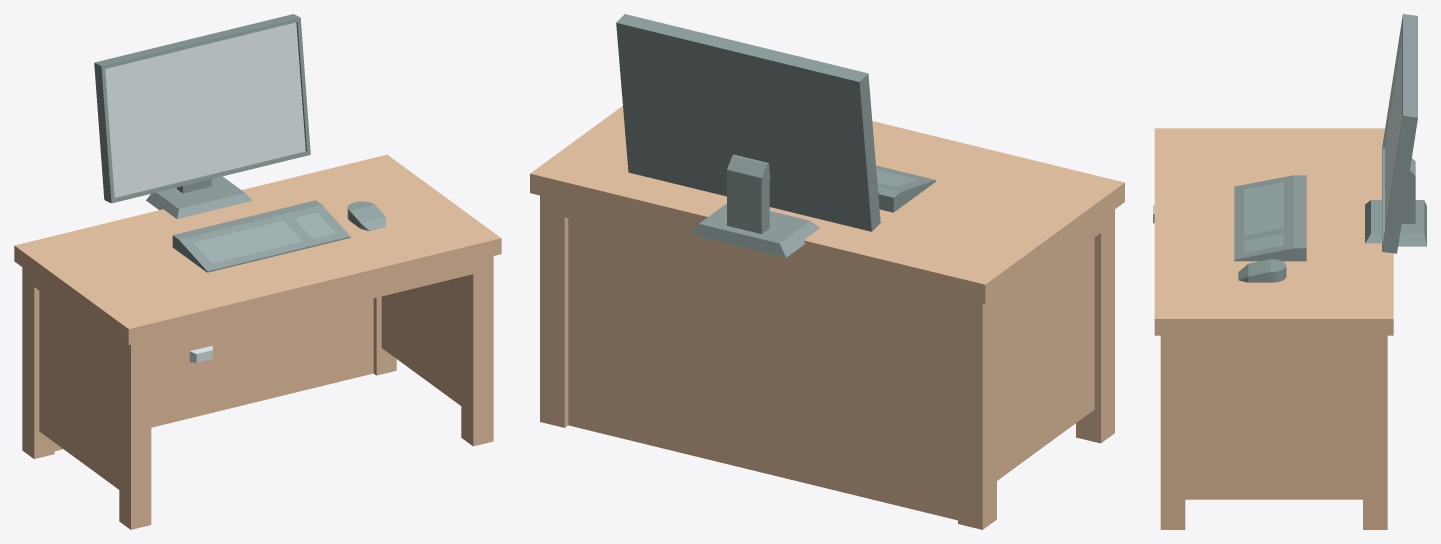
File: computer_desk.glb
3 renders of one model, left to right at view 1: azimuth 30°, elevation 25°; view 2: azimuth 150°, elevation 25°; view 3: azimuth 270°, elevation 25°, orthographic. The views are drawn at different scales.
Visible parts, largest first — view 1: desk(Clone), computerScreen(Clone), computerKeyboard(Clone), drawer, computerMouse(Clone); view 2: desk(Clone), computerScreen(Clone), computerKeyboard(Clone); view 3: desk(Clone), computerScreen(Clone), computerKeyboard(Clone), computerMouse(Clone).
Part boxes in pixels (x1,y1,x2,y2): desk(Clone): (14,154,501,529); computerScreen(Clone): (94,14,310,218); computerKeyboard(Clone): (172,200,350,272); drawer: (151,328,250,378); computerMouse(Clone): (347,201,385,231); desk(Clone): (530,106,1124,529); computerScreen(Clone): (616,14,880,257); computerKeyboard(Clone): (876,165,935,212); desk(Clone): (1154,128,1393,529); computerScreen(Clone): (1365,14,1426,253); computerKeyboard(Clone): (1234,175,1306,261); computerMouse(Clone): (1238,259,1286,282).
Bounding box in the file's own units: 1.51 × 1.38 × 0.9149.
